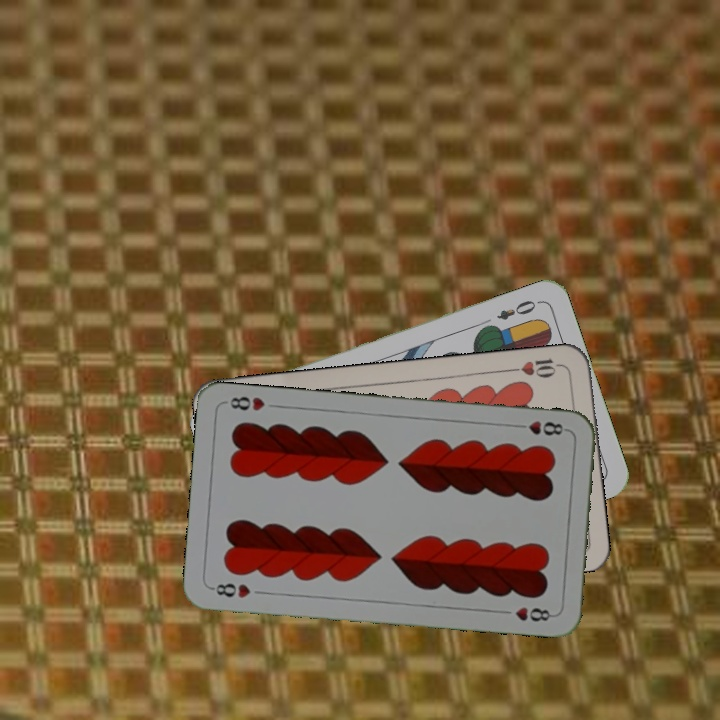EO: (493, 296, 543, 323)
H10: (506, 354, 565, 380)
H8: (511, 417, 570, 438), (207, 579, 253, 601)
